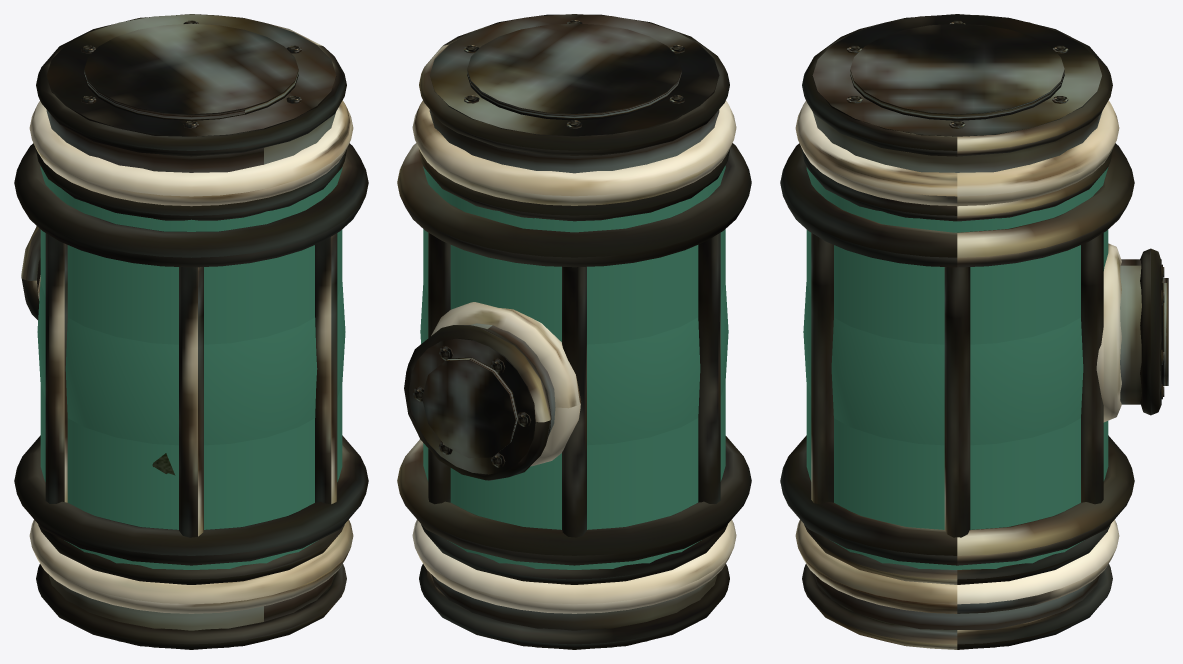
The model's file is organ-digestion-icon-v1.glb.
3 renders of one model, left to right at view 1: azimuth 30°, elevation 25°; view 2: azimuth 150°, elevation 25°; view 3: azimuth 270°, elevation 25°, orthographic.
Parts seen in each view (by area): view 1: organ-digestion-icon-v1-brass, organ-digestion-icon-v1-glass, organ-digestion-icon-v1-steel, organ-digestion-icon-v1-ceramic; view 2: organ-digestion-icon-v1-brass, organ-digestion-icon-v1-steel, organ-digestion-icon-v1-glass, organ-digestion-icon-v1-ceramic; view 3: organ-digestion-icon-v1-brass, organ-digestion-icon-v1-glass, organ-digestion-icon-v1-steel, organ-digestion-icon-v1-ceramic.
Part boxes in pixels (bbox=[...]): organ-digestion-icon-v1-brass: bbox=[14, 14, 368, 649]; organ-digestion-icon-v1-glass: bbox=[37, 166, 345, 569]; organ-digestion-icon-v1-steel: bbox=[37, 14, 336, 648]; organ-digestion-icon-v1-ceramic: bbox=[29, 100, 353, 613]; organ-digestion-icon-v1-brass: bbox=[397, 14, 751, 649]; organ-digestion-icon-v1-steel: bbox=[409, 14, 719, 648]; organ-digestion-icon-v1-glass: bbox=[420, 165, 728, 569]; organ-digestion-icon-v1-ceramic: bbox=[412, 100, 736, 613]; organ-digestion-icon-v1-brass: bbox=[780, 14, 1164, 649]; organ-digestion-icon-v1-glass: bbox=[803, 167, 1108, 569]; organ-digestion-icon-v1-steel: bbox=[812, 14, 1168, 648]; organ-digestion-icon-v1-ceramic: bbox=[795, 100, 1121, 613].
Size of the model in its own units: 0.4949 by 0.81 by 0.5424.
3 materials, 2 textured.
